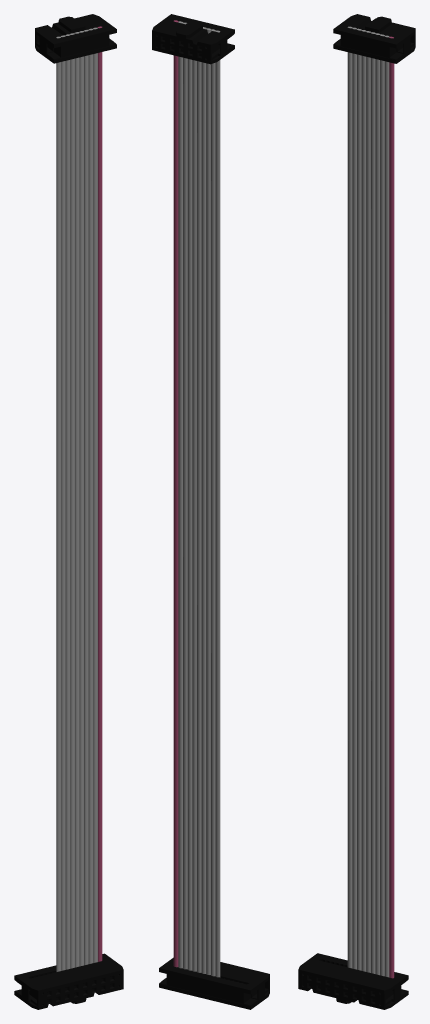
The model's file is cable_eurorack_power.glb.
3 renders of one model, left to right at view 1: azimuth 30°, elevation 25°; view 2: azimuth 150°, elevation 25°; view 3: azimuth 330°, elevation 25°, orthographic.
Visible parts, largest first — view 1: Solid5, Solid4, Solid6; view 2: Solid5, Solid4, Solid6; view 3: Solid5, Solid4, Solid6.
Part boxes in pixels (x1,y1,x2,y2): Solid5: (56,27,97,971); Solid4: (14,14,123,1009); Solid6: (97,26,102,961); Solid5: (178,21,220,977); Solid4: (152,14,269,1009); Solid6: (173,20,178,967); Solid5: (347,26,389,977); Solid4: (298,14,415,1009); Solid6: (389,36,394,978).
Size of the model in its own units: 0.0251 by 0.2538 by 0.0148.
